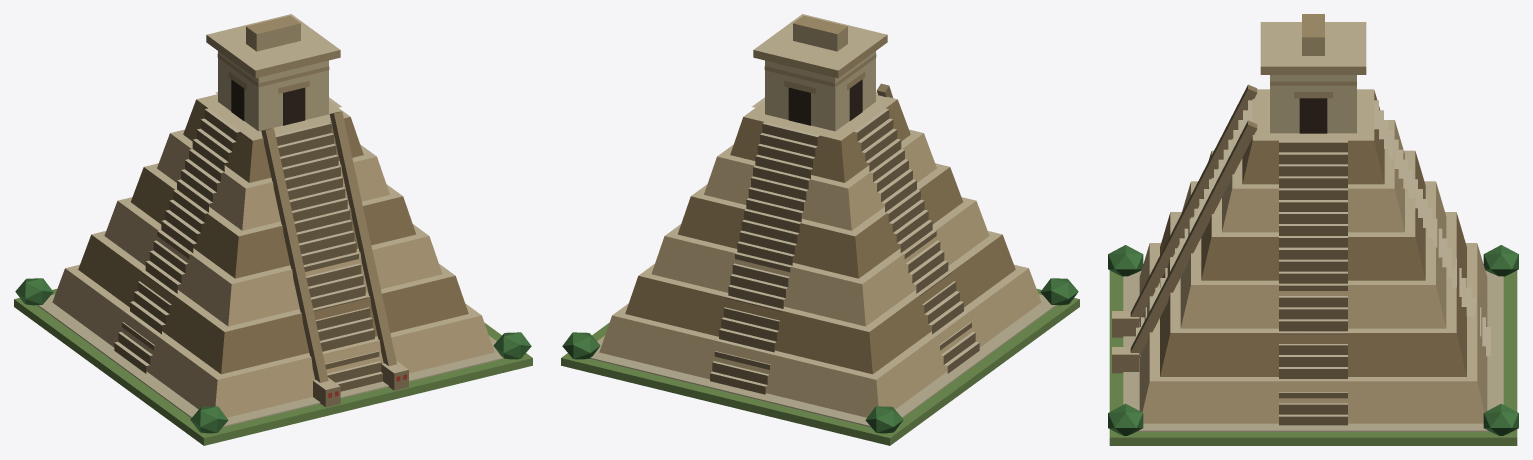
The model's file is pyramide.glb.
The picture shows the model from 3 angles, left to right: view 1: azimuth 30°, elevation 25°; view 2: azimuth 150°, elevation 25°; view 3: azimuth 270°, elevation 25°; orthographic projection. The views are drawn at different scales.
Parts seen in each view (by area): view 1: pyramide; view 2: pyramide; view 3: pyramide.
Boxes of the visible parts, box(x1,y1,x2,y2) form: pyramide: box(14, 14, 532, 445); pyramide: box(561, 14, 1079, 445); pyramide: box(1108, 14, 1518, 445).
Size of the model in its own units: 1.79 by 1.61 by 1.79.
